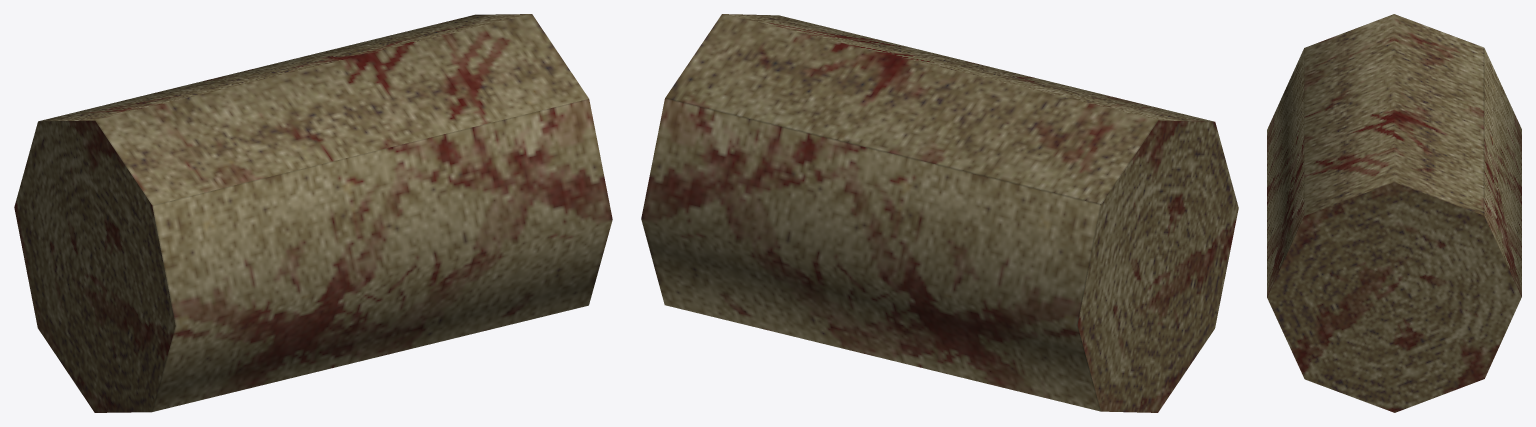
The model's file is SM_EC_Horror_Hay_4.fbx.
3 views of the same model, side by side, from view 1: azimuth 30°, elevation 25°; view 2: azimuth 150°, elevation 25°; view 3: azimuth 270°, elevation 25° (orthographic). The views are drawn at different scales.
Parts seen in each view (by area): view 1: SM_EC_Horror_Hay_4; view 2: SM_EC_Horror_Hay_4; view 3: SM_EC_Horror_Hay_4.
Part boxes in pixels (x1=…): SM_EC_Horror_Hay_4: x1=14, y1=14, x2=612, y2=412; SM_EC_Horror_Hay_4: x1=641, y1=14, x2=1238, y2=412; SM_EC_Horror_Hay_4: x1=1267, y1=14, x2=1521, y2=412.
Size of the model in its own units: 2.5 by 1.6 by 1.6.
